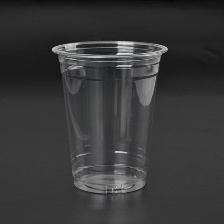glass: (51, 39, 168, 196)
